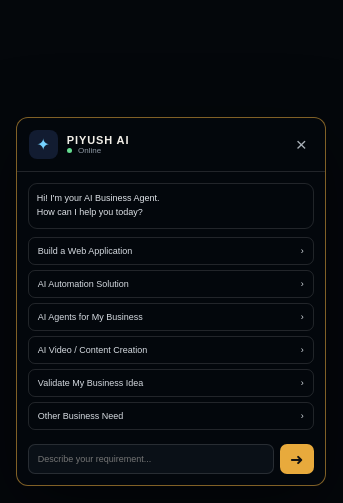
Test: AiAgent › shows a backend error when the API rejects the request
Click the button "Other Business Need ›" at (81, 416), box [28,402,314,430]
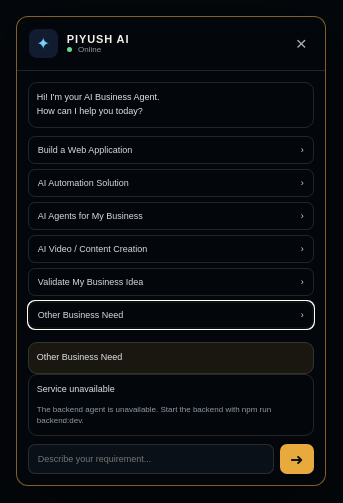
expect the text "Service unavailable" is shown: met, box [37,384,115,394]
expect the text "Start the backend with npm run backend:dev" is shown: met, box [37,405,271,425]
